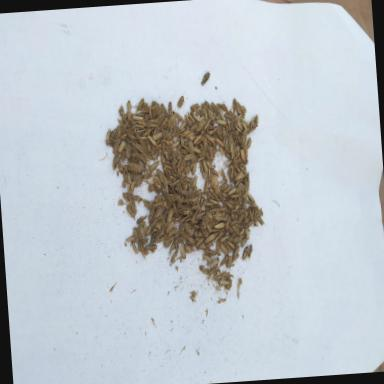pbw: (182, 220, 194, 237), (108, 128, 118, 148), (130, 149, 144, 163), (134, 97, 146, 113), (152, 205, 164, 221), (240, 243, 250, 262), (217, 255, 230, 269), (152, 174, 162, 192), (162, 165, 172, 182), (204, 104, 214, 121), (204, 131, 216, 145), (184, 231, 196, 245), (184, 162, 196, 176), (200, 70, 210, 86), (209, 186, 219, 202), (256, 212, 266, 228), (148, 231, 158, 247), (126, 180, 136, 196), (126, 204, 136, 220), (198, 160, 206, 180), (192, 133, 204, 146), (159, 222, 172, 234), (116, 140, 127, 154), (154, 233, 168, 244), (147, 204, 155, 223), (175, 112, 187, 124), (242, 218, 254, 230), (222, 198, 234, 210), (250, 210, 258, 228), (139, 245, 149, 259), (174, 164, 184, 178), (166, 207, 174, 224), (132, 226, 140, 243), (237, 156, 245, 173), (111, 139, 120, 154), (216, 101, 228, 112), (135, 213, 147, 224), (204, 232, 216, 243), (118, 107, 128, 120), (147, 160, 160, 170), (214, 240, 222, 256), (124, 144, 132, 160), (252, 114, 260, 130), (202, 178, 210, 194), (112, 155, 120, 171), (209, 256, 220, 267), (174, 186, 186, 196), (166, 227, 178, 237), (169, 178, 181, 188), (168, 252, 178, 264), (206, 266, 218, 276), (184, 113, 192, 128), (210, 270, 222, 280), (194, 122, 206, 132), (128, 199, 136, 214), (148, 134, 158, 146), (234, 170, 246, 180), (246, 244, 254, 259), (230, 152, 240, 164), (122, 192, 132, 204), (164, 221, 174, 233), (124, 131, 136, 141), (161, 103, 169, 118), (203, 240, 213, 252), (232, 122, 242, 134), (190, 121, 200, 133), (167, 168, 176, 181), (190, 210, 198, 224), (138, 224, 145, 240), (179, 244, 186, 260), (198, 193, 206, 207), (186, 110, 194, 124), (133, 119, 147, 127), (145, 222, 153, 236), (178, 208, 192, 216), (232, 247, 240, 261), (130, 122, 138, 136), (120, 146, 127, 162), (236, 118, 244, 132), (231, 98, 238, 114), (220, 168, 228, 182), (236, 213, 246, 224), (230, 202, 240, 213), (208, 166, 219, 176), (201, 254, 212, 264), (179, 228, 190, 238), (230, 224, 240, 235), (226, 109, 237, 119), (228, 164, 234, 182), (126, 98, 132, 116), (141, 127, 153, 136), (175, 142, 184, 154), (170, 150, 176, 168), (240, 182, 246, 200), (191, 110, 200, 122), (210, 101, 219, 113), (247, 200, 259, 209), (121, 127, 134, 135), (176, 95, 184, 108), (200, 212, 208, 225), (200, 198, 208, 211), (190, 186, 198, 199), (220, 242, 228, 255), (223, 240, 231, 253), (176, 196, 184, 209), (166, 101, 172, 118), (194, 236, 204, 246), (198, 118, 208, 128), (212, 232, 222, 242), (226, 186, 236, 196), (189, 102, 199, 112), (178, 120, 187, 131), (160, 116, 169, 127), (215, 137, 224, 148), (226, 231, 235, 242), (187, 139, 194, 153), (191, 161, 198, 175), (201, 159, 208, 173), (223, 216, 230, 230), (240, 120, 248, 132), (170, 127, 178, 139), (174, 158, 182, 170), (218, 278, 230, 286), (234, 130, 240, 146), (142, 171, 154, 179), (204, 99, 212, 111), (174, 128, 186, 136), (194, 105, 202, 117), (151, 132, 163, 140), (190, 176, 198, 188), (236, 100, 242, 116), (174, 214, 186, 222), (186, 182, 192, 198), (167, 243, 175, 255), (124, 234, 136, 242), (180, 129, 192, 137), (225, 255, 232, 268), (144, 243, 157, 250), (225, 239, 234, 249), (233, 113, 243, 122), (126, 111, 131, 129), (184, 175, 194, 184), (222, 125, 228, 140), (147, 104, 153, 119), (224, 157, 234, 166), (242, 177, 248, 192), (196, 114, 206, 123), (224, 130, 234, 139), (118, 132, 128, 141), (210, 111, 216, 126), (199, 148, 209, 157), (254, 207, 264, 216), (240, 116, 249, 126), (195, 211, 206, 219), (203, 119, 211, 130), (248, 116, 256, 127), (219, 235, 230, 243), (247, 192, 255, 203), (231, 234, 242, 242), (240, 237, 248, 248), (172, 149, 178, 163), (126, 170, 132, 184), (216, 126, 222, 140), (131, 114, 143, 121), (165, 139, 177, 146), (130, 194, 142, 201), (208, 146, 214, 160), (206, 249, 218, 256), (146, 138, 152, 152), (242, 187, 249, 199), (228, 117, 234, 131), (242, 204, 249, 216), (216, 118, 228, 125), (173, 238, 179, 252), (132, 240, 138, 254), (240, 148, 246, 162), (147, 117, 159, 124), (242, 144, 248, 158), (224, 112, 233, 121), (193, 144, 201, 154), (226, 224, 234, 234), (164, 192, 174, 200), (202, 218, 210, 228), (162, 162, 172, 170), (232, 180, 242, 188), (184, 152, 194, 160), (218, 185, 226, 195), (161, 209, 169, 219), (182, 144, 190, 154), (246, 126, 256, 134), (152, 142, 162, 150), (236, 190, 242, 203), (132, 122, 145, 128), (212, 211, 224, 217), (172, 200, 178, 212), (160, 152, 166, 164), (222, 202, 228, 214), (228, 140, 234, 152), (246, 136, 252, 148), (171, 140, 180, 148), (182, 183, 188, 195), (221, 228, 229, 237), (212, 174, 218, 186), (230, 148, 236, 160), (214, 222, 226, 228), (218, 108, 224, 120), (185, 240, 194, 248), (224, 149, 231, 159), (209, 198, 219, 205), (228, 219, 238, 226), (207, 168, 212, 182), (190, 205, 201, 211), (242, 196, 248, 207), (206, 129, 217, 135), (118, 160, 123, 173), (142, 221, 147, 234), (225, 138, 230, 151), (223, 184, 231, 192), (234, 222, 242, 230), (179, 148, 187, 156), (184, 244, 192, 252), (162, 140, 166, 156), (228, 198, 236, 206), (220, 191, 228, 199), (244, 215, 252, 223), (204, 158, 210, 168), (244, 228, 249, 240), (210, 227, 220, 233), (194, 188, 201, 196), (188, 134, 196, 141), (188, 244, 195, 252), (138, 135, 149, 140), (210, 208, 223, 212), (218, 146, 223, 156), (229, 193, 239, 198), (136, 129, 146, 134), (206, 224, 213, 231), (234, 164, 240, 172), (180, 135, 184, 147), (233, 159, 239, 167), (146, 124, 158, 128), (196, 156, 204, 162), (205, 201, 214, 206), (167, 200, 172, 209), (214, 216, 225, 220), (173, 232, 180, 238), (191, 196, 198, 202), (192, 224, 202, 228), (239, 228, 245, 234), (164, 186, 168, 194), (202, 158, 204, 162)
